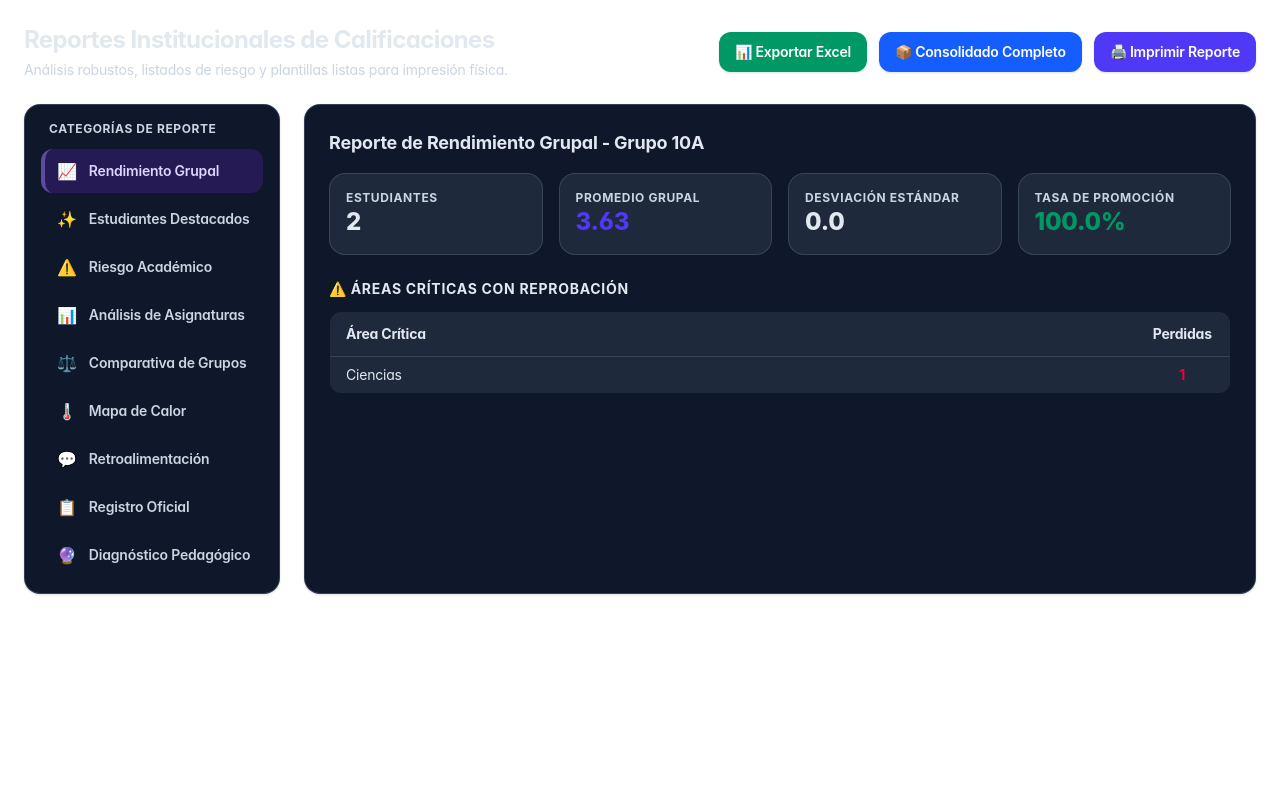
Test: ReportsTab › renders student feedback cards with enhanced pedagogical metrics
// Click on "Retroalimentación"
Click the text "Retroalimentación" at (149, 459), box top-left (89, 449), bottom-right (209, 469)
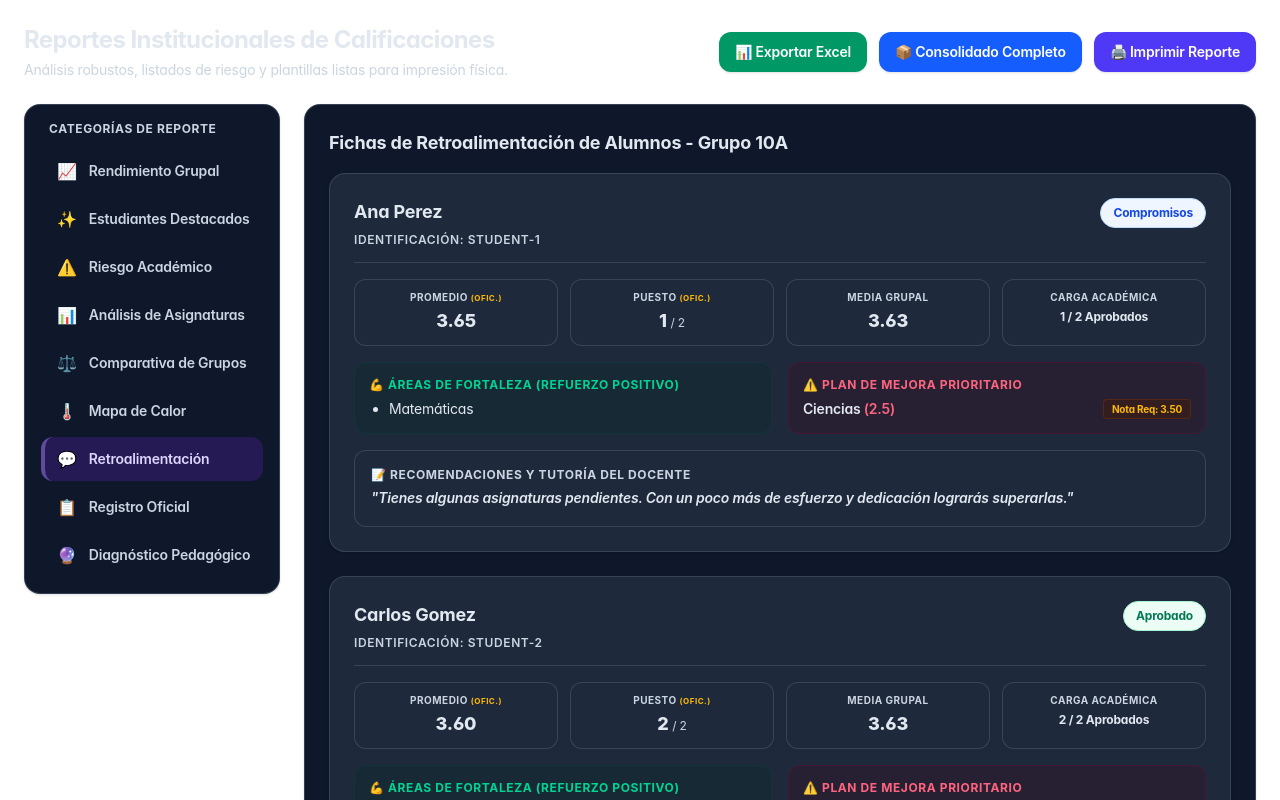
Check: the heading "Fichas de Retroalimentación de Alumnos - Grupo 10A" is shown, box top-left (329, 132), bottom-right (788, 153)
Check: the heading "Ana Perez" is shown, box top-left (354, 201), bottom-right (442, 222)
Check: the text "Promedio" is shown 2 times, box top-left (410, 291), bottom-right (502, 303); top-left (410, 694), bottom-right (502, 706)
